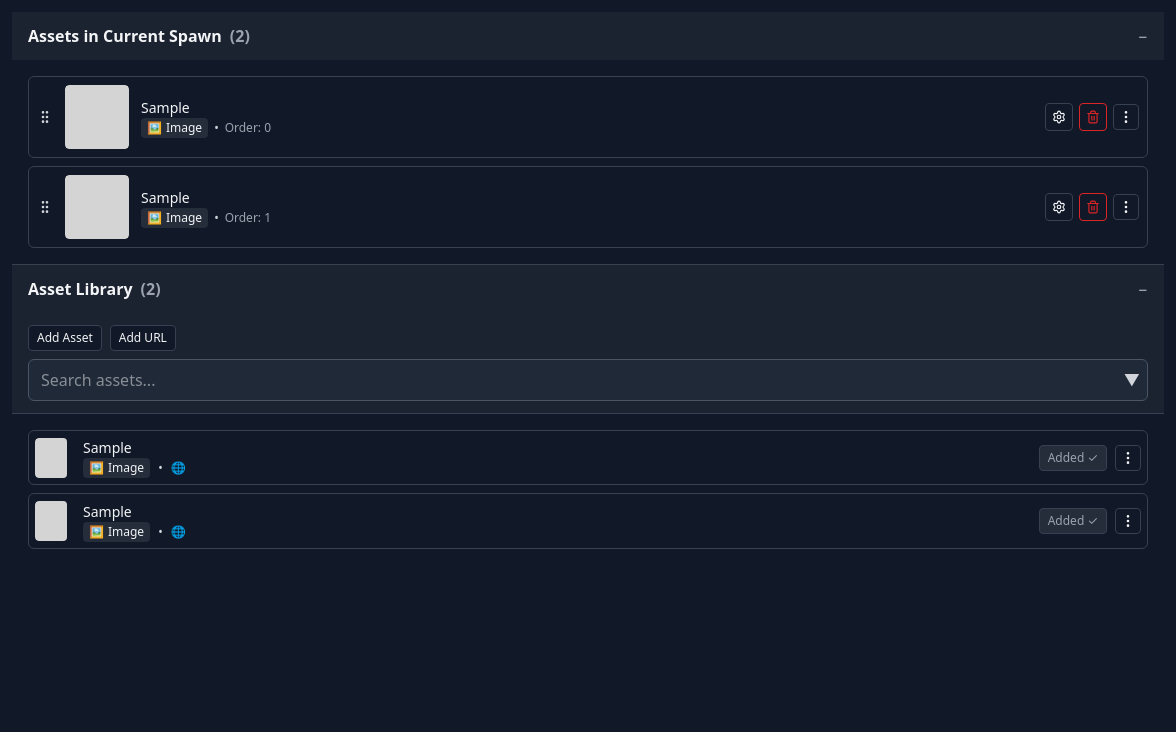
Scenario: AssetManagementPanel (Advanced Features) › Asset Removal Workflow (MS-38) › renders remove control and immediately removes asset (draft)
Expected: the 2nd text "(2)" is shown, [140,277,160,301]
Click the 1st button named "Remove from Spawn": (1093, 117) [1079,103,1107,131]
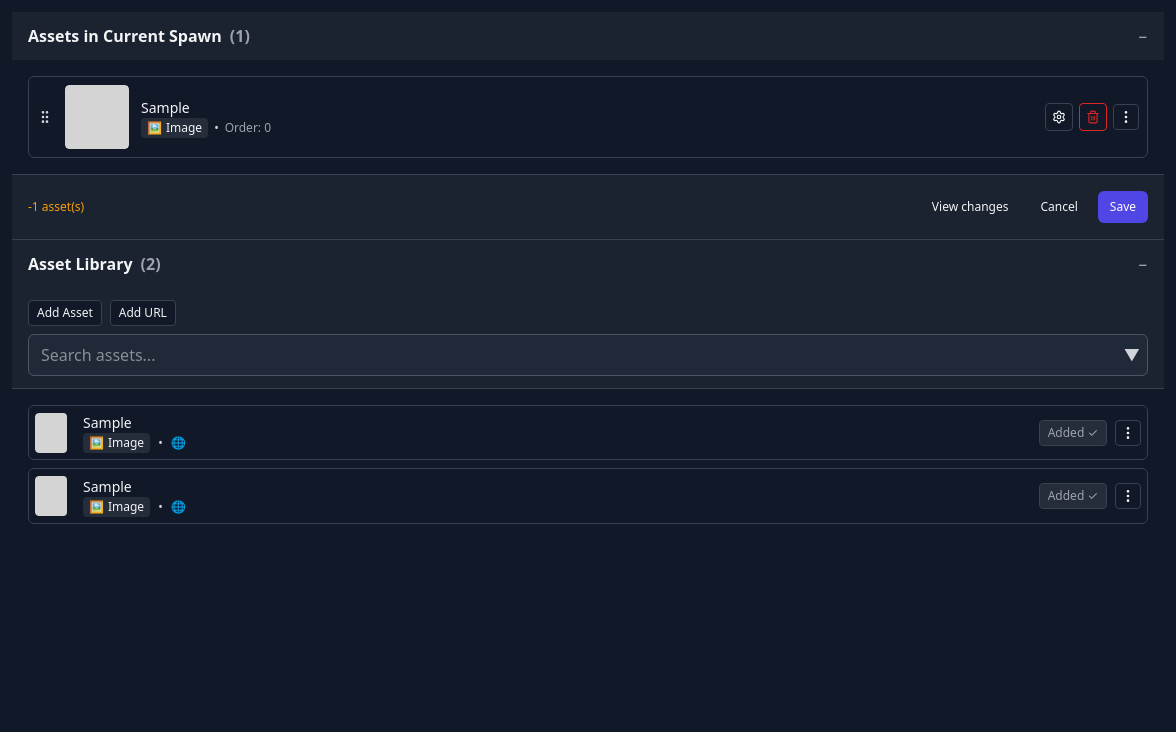
Now the button "Save" is shown, box [1098,191,1148,223]
Now the text "(1)" is shown, box [230,24,250,48]
